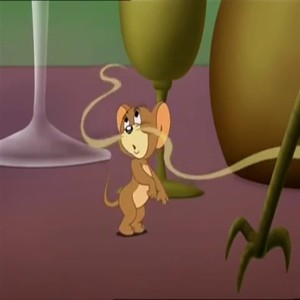Jerry: (109, 97, 170, 240)
